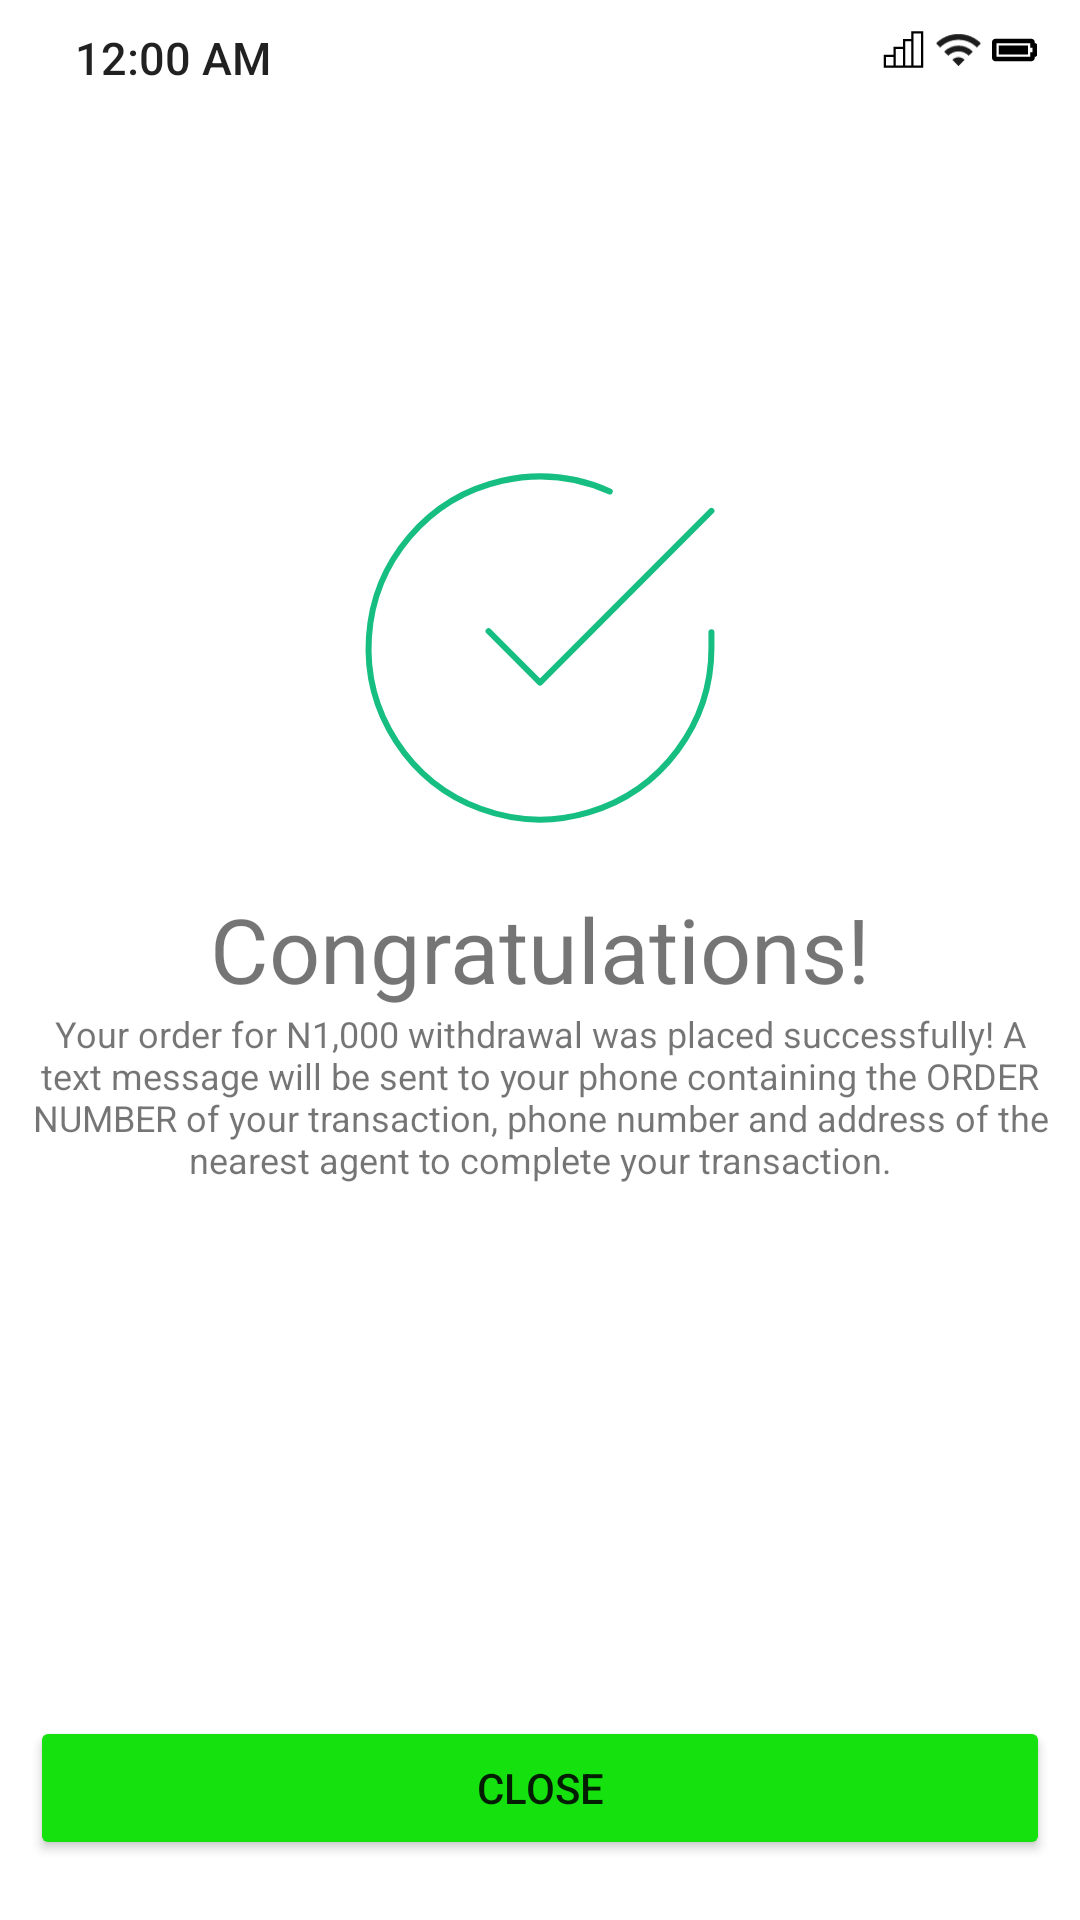

Where icons sit on this 1080×1920 app screen, as (x1, y1, x2, y2):
battery: (992, 38, 1037, 62)
check circle: (365, 473, 715, 823)
mobiledata: (883, 31, 924, 68)
wifi: (936, 34, 981, 66)
